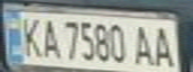0: (109, 20, 130, 64)
5: (78, 18, 96, 62)
7: (60, 17, 81, 61)
8: (90, 19, 112, 63)
A: (148, 22, 178, 69), (130, 21, 157, 68), (36, 15, 60, 60)
K: (15, 13, 45, 60)
